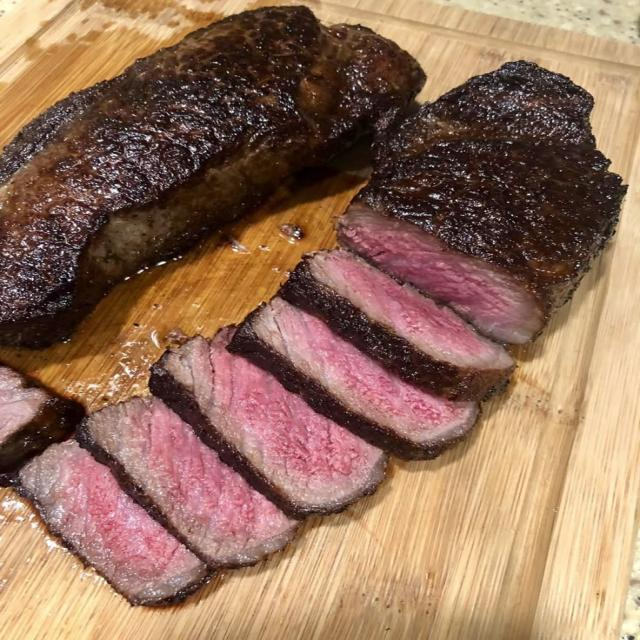beef steak: (0, 6, 425, 347), (337, 61, 626, 343), (150, 326, 385, 515), (230, 295, 478, 460), (78, 397, 297, 568), (280, 249, 515, 401), (18, 440, 207, 605), (0, 363, 83, 485)
